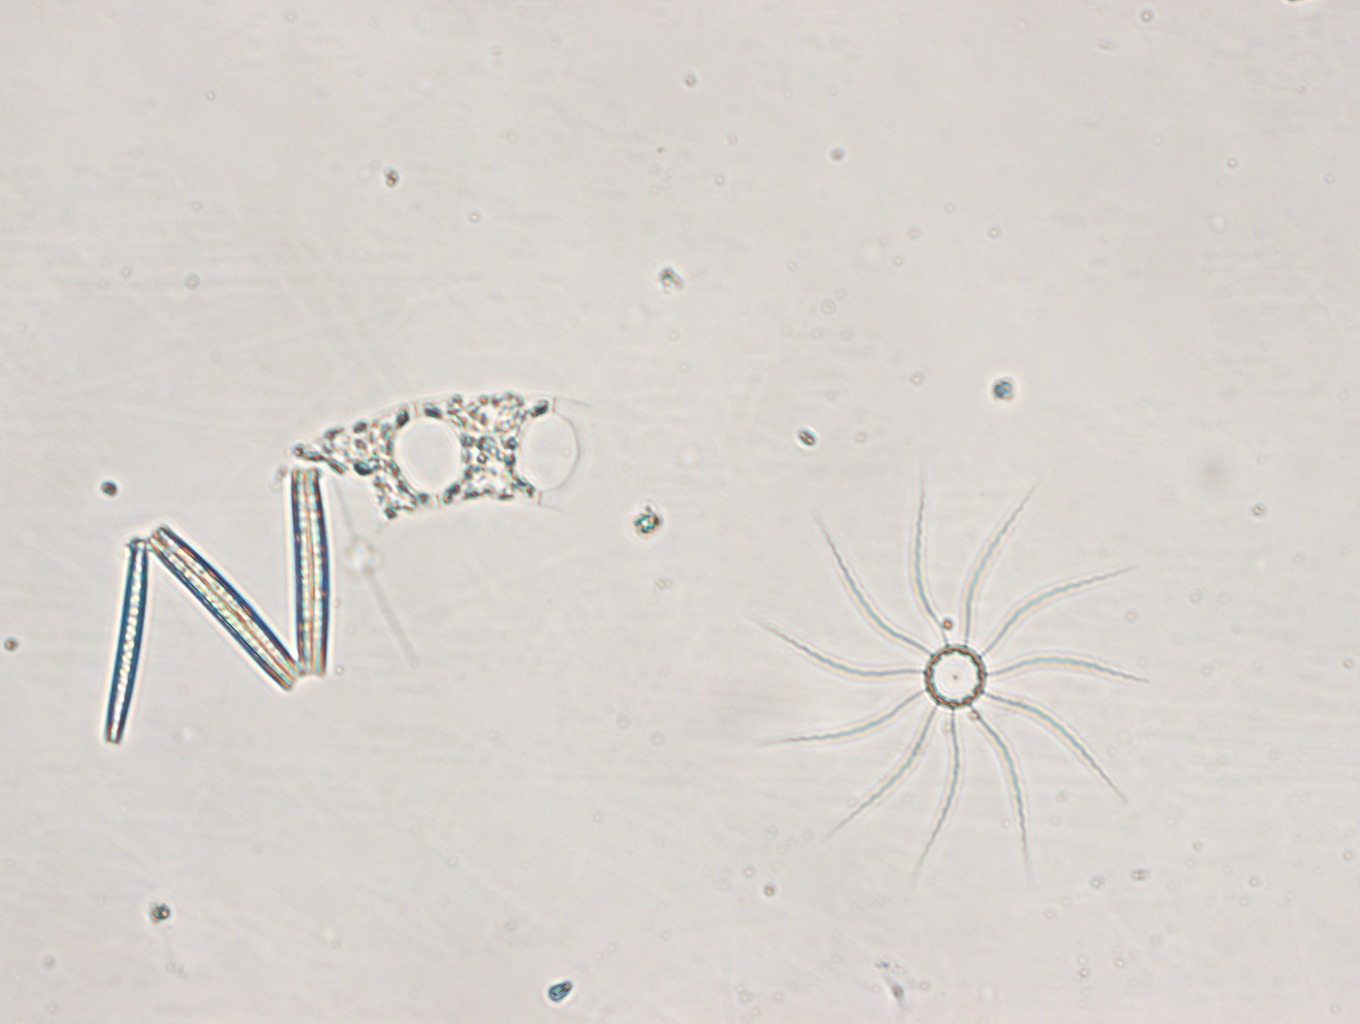bacteriastrum: (746, 475, 1140, 881)
eucampia: (271, 386, 601, 544)
thalassionema nitzschioides: (99, 463, 337, 749)
